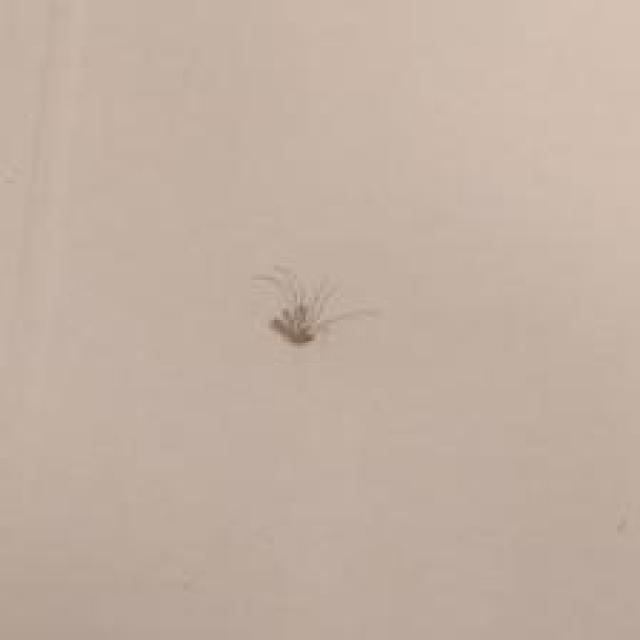Culex: (251, 263, 380, 348)
